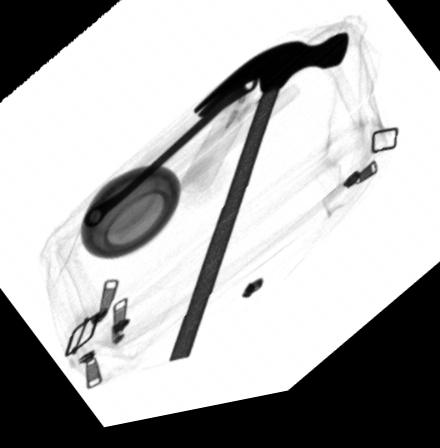Hammer: (165, 46, 349, 370)
Wrench: (80, 81, 261, 232)
